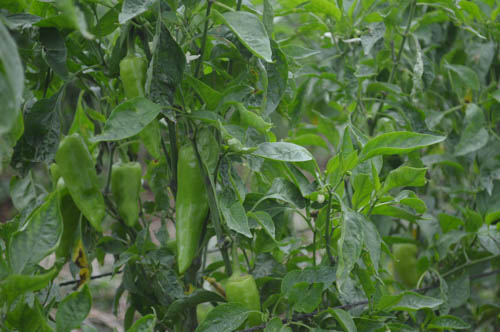ChiliPepper: (58, 136, 105, 227), (117, 59, 159, 158), (175, 146, 207, 273), (111, 164, 145, 223), (230, 277, 265, 321), (392, 241, 420, 283)
